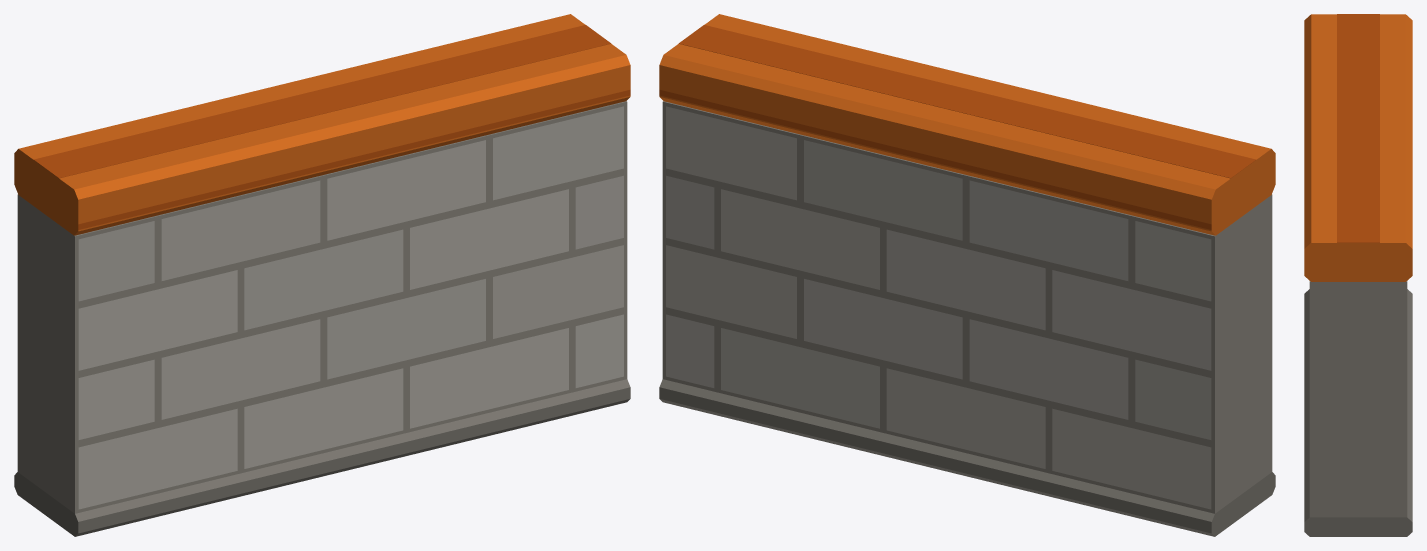
The model's file is site-wall1.glb.
3 views of the same model, side by side, from view 1: azimuth 30°, elevation 25°; view 2: azimuth 150°, elevation 25°; view 3: azimuth 270°, elevation 25° (orthographic). The views are drawn at different scales.
Visible parts, largest first — view 1: site-wall1; view 2: site-wall1; view 3: site-wall1.
Boxes of the visible parts, x1,y1,x2,y2 form: site-wall1: (14,14,630,536); site-wall1: (659,14,1275,536); site-wall1: (1304,14,1412,536).
Bounding box in the file's own units: 2 × 1.2 × 0.4012.
